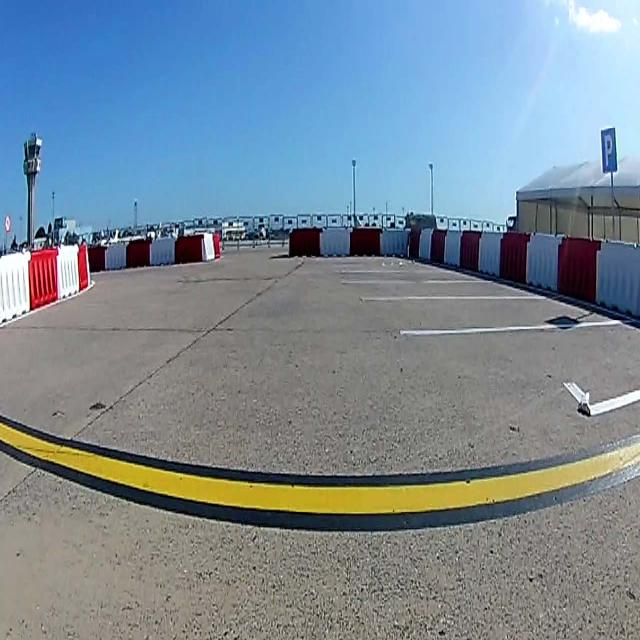park: (601, 127, 617, 173)
